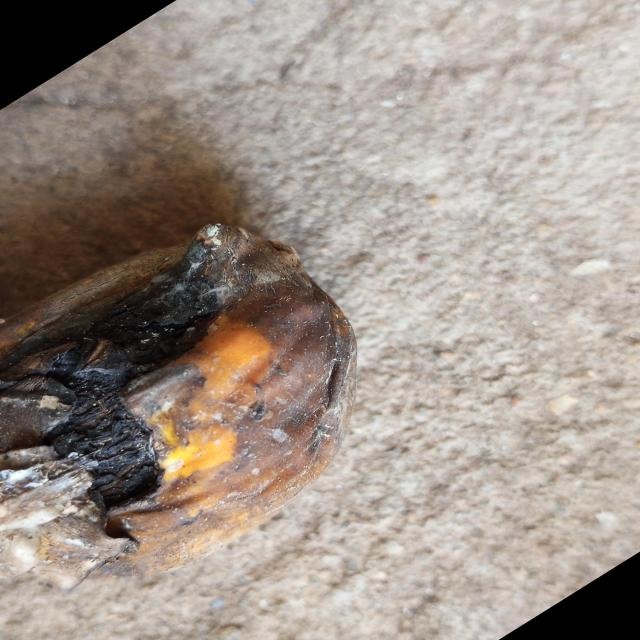damaged: (0, 225, 358, 601)
